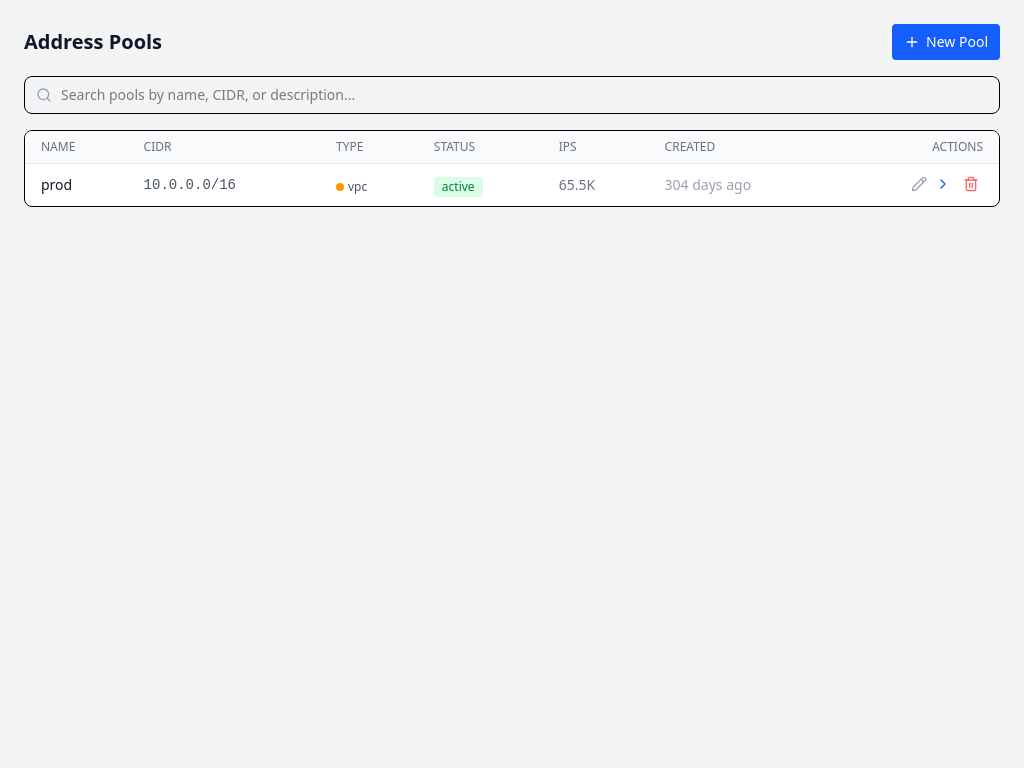
Scenario: pool-type <select> options come from POOL_TYPES › lists every pool type in the edit-pool select
The width and height of the screenshot is (1024, 768).
Click the button titled "Edit pool" at (919, 184), box [907,172,931,196]
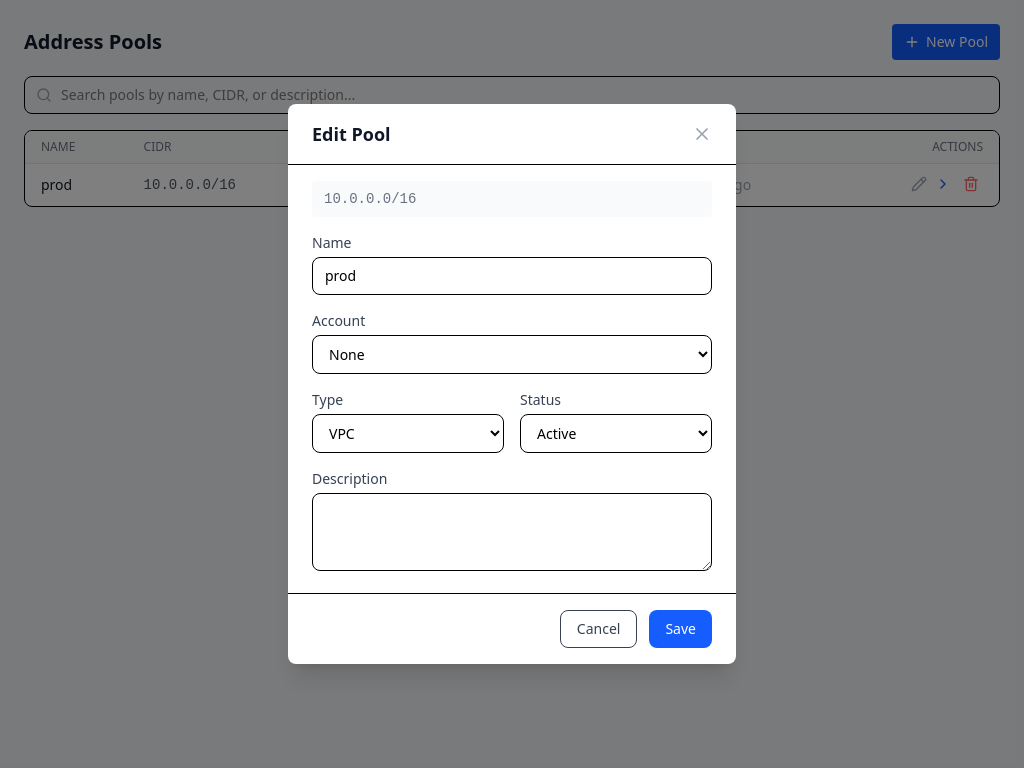
Result: the dropdown with id "edit-pool-type" is shown at [312,414,504,453]
